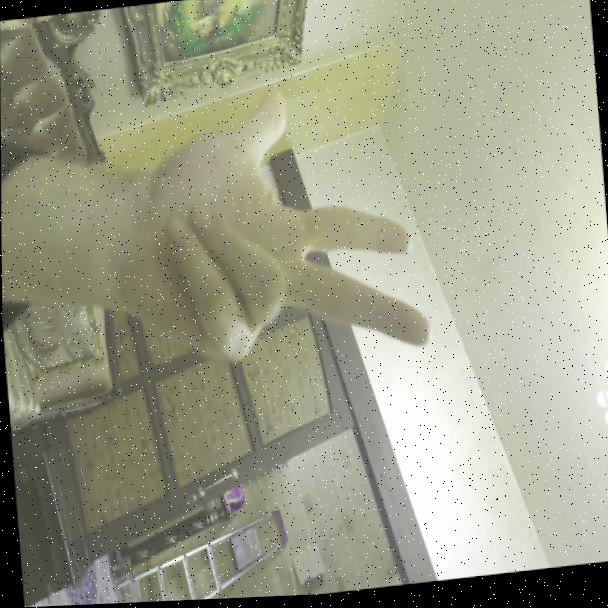three: (128, 75, 439, 389)
